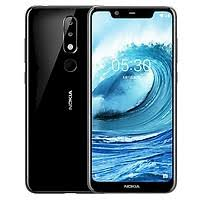nokia: (89, 4, 177, 194), (24, 4, 93, 195)
